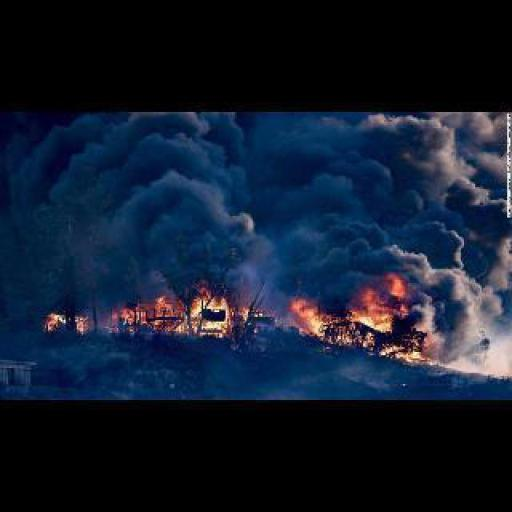smoke: (2, 112, 510, 302), (288, 286, 445, 365), (112, 286, 245, 346), (40, 306, 90, 336)
